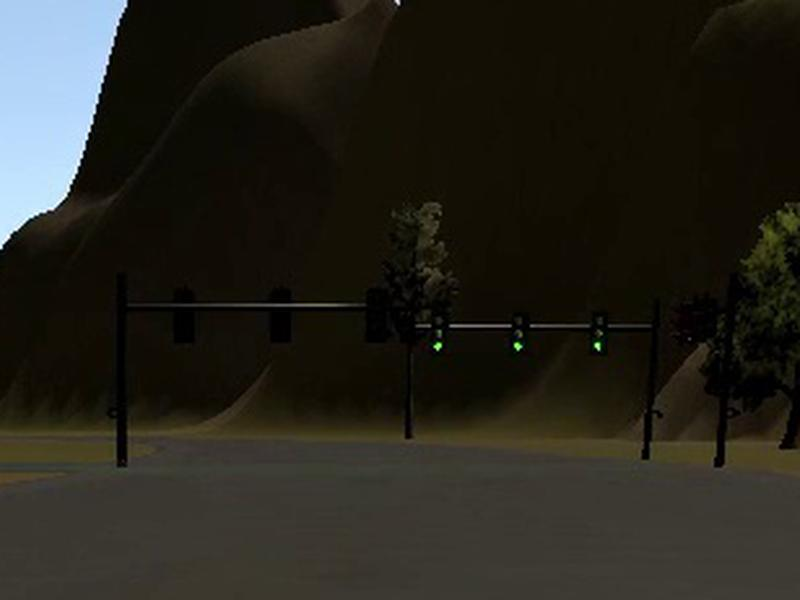Green: (590, 310, 608, 355), (510, 314, 527, 353), (431, 313, 447, 352)
